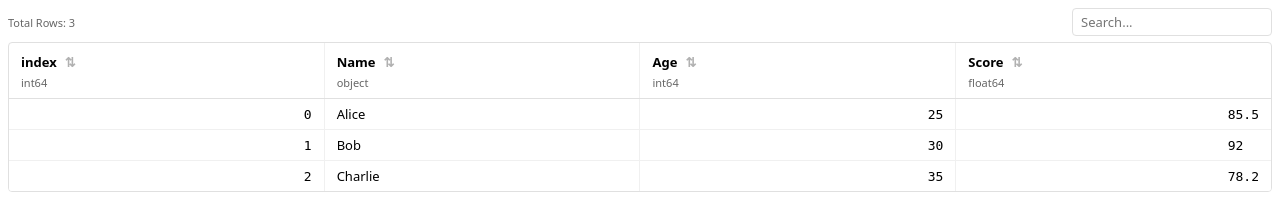
Scenario: MitoViewer › sorts data when column headers are clicked
The image size is (1280, 209).
expect the column heading "Name" is shown: met, box left=337, top=53, right=376, bottom=71
Click the icon with class "mito-viewer__sort-icon-container" next to "Name" at (389, 62), box left=384, top=53, right=394, bottom=71
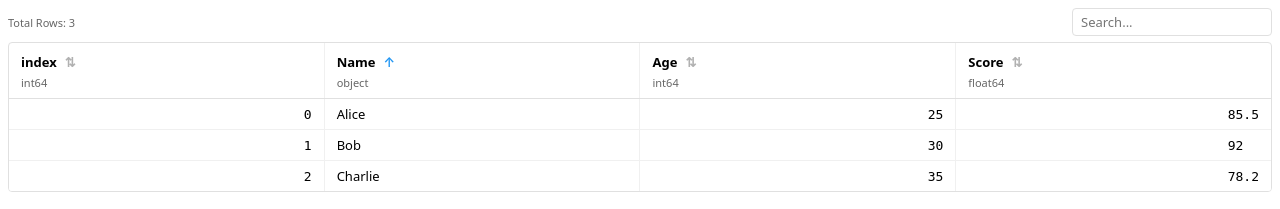
expect the row "0 Alice 25 85 . 5" is shown: met, box left=9, top=98, right=1271, bottom=130
expect the icon "↑" is shown: met, box left=384, top=53, right=395, bottom=71
